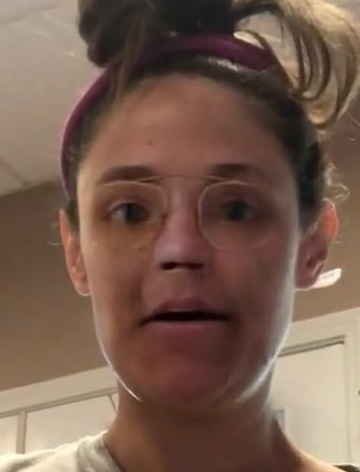n_f: (150, 181, 216, 277)
